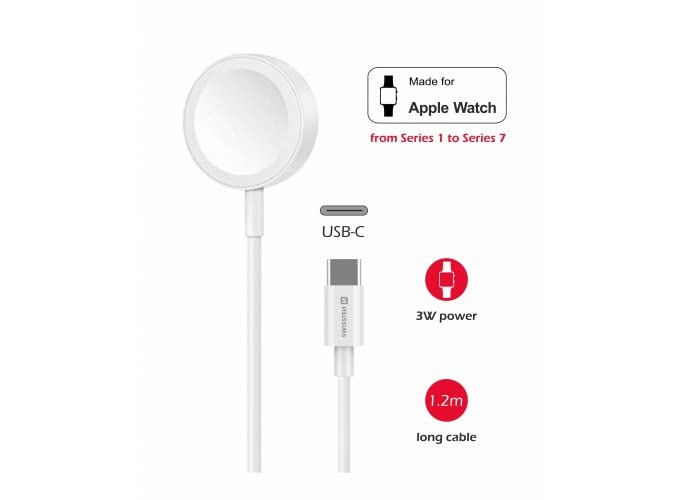1: (439, 134, 442, 142)
3W: (416, 311, 436, 320)
7: (500, 134, 506, 142)
Series: (401, 134, 433, 142), (463, 134, 495, 142)
cable: (446, 433, 477, 441)
from: (371, 133, 397, 142)
power: (440, 313, 477, 323)
to: (448, 134, 459, 142)
